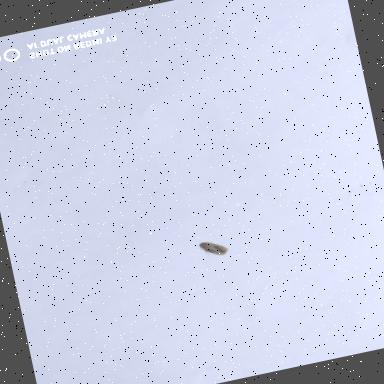pbw: (197, 235, 232, 261)
